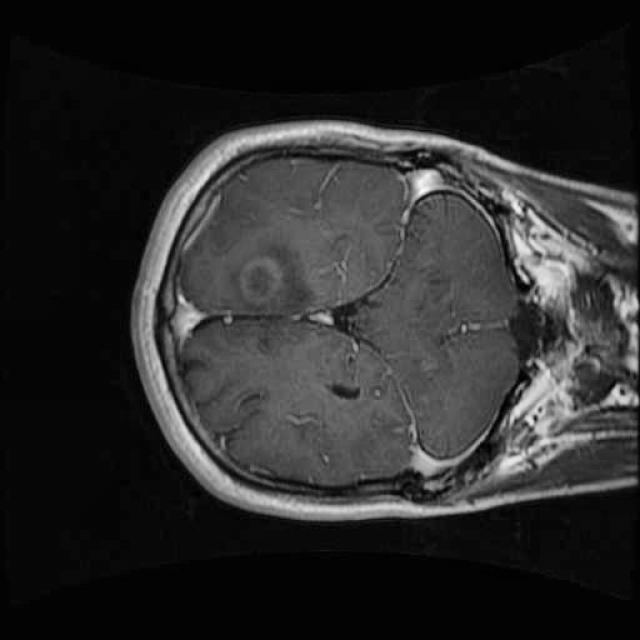Tumor: (216, 240, 296, 320)
